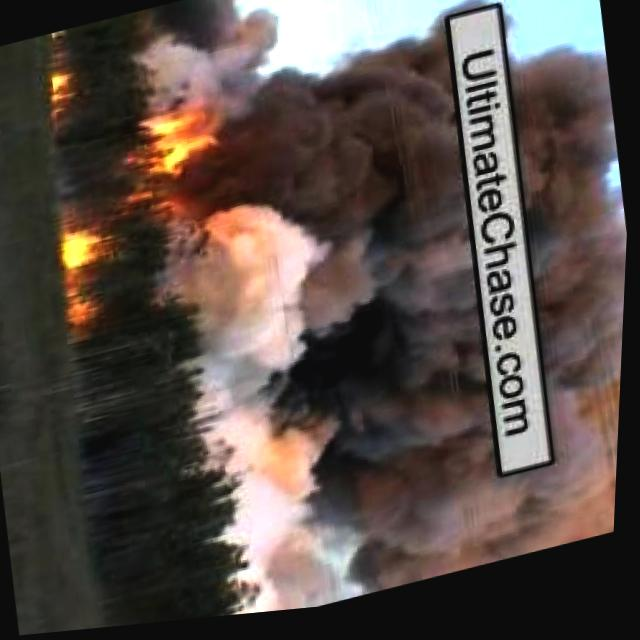helmet: (126, 95, 241, 196), (61, 231, 120, 281), (44, 64, 86, 108), (69, 299, 105, 333)
no_helmet: (181, 10, 522, 625), (486, 40, 637, 564)
